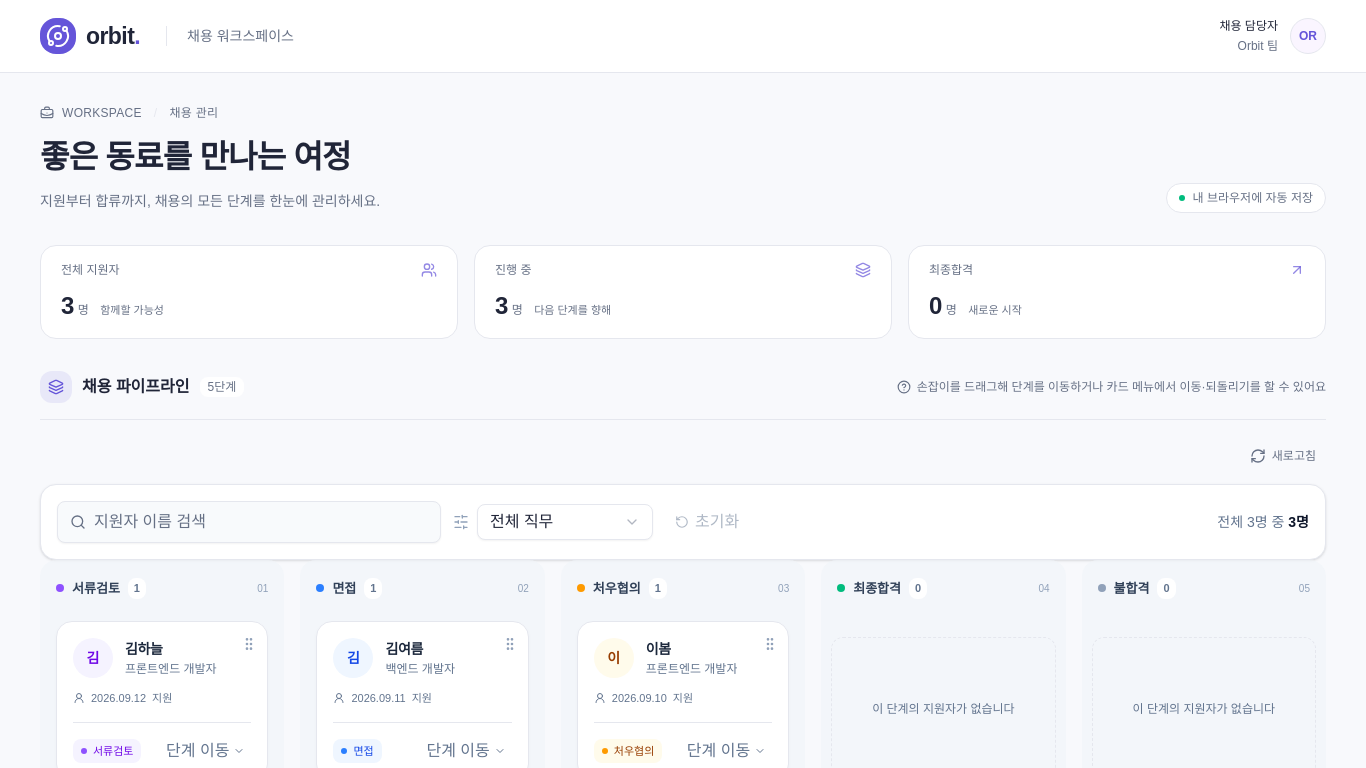
Test case: CandidatesApp acceptance › settles rapid search edits on matching cards, counts, and empty states without refetching
The width and height of the screenshot is (1366, 768).
In the search field: (261, 522) x1=94 y1=502 x2=428 y2=542, type "없는 이름"
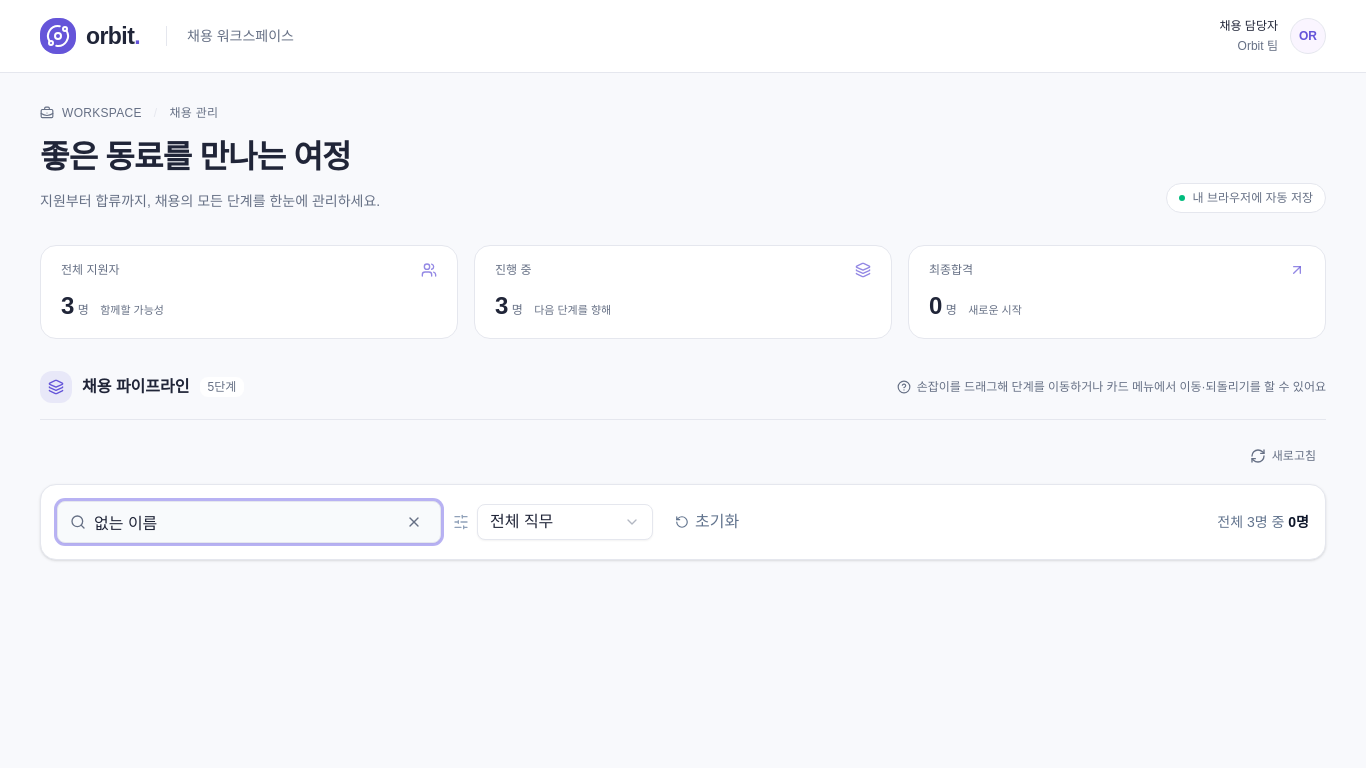
Clear the search field: (243, 522) x1=94 y1=502 x2=392 y2=542
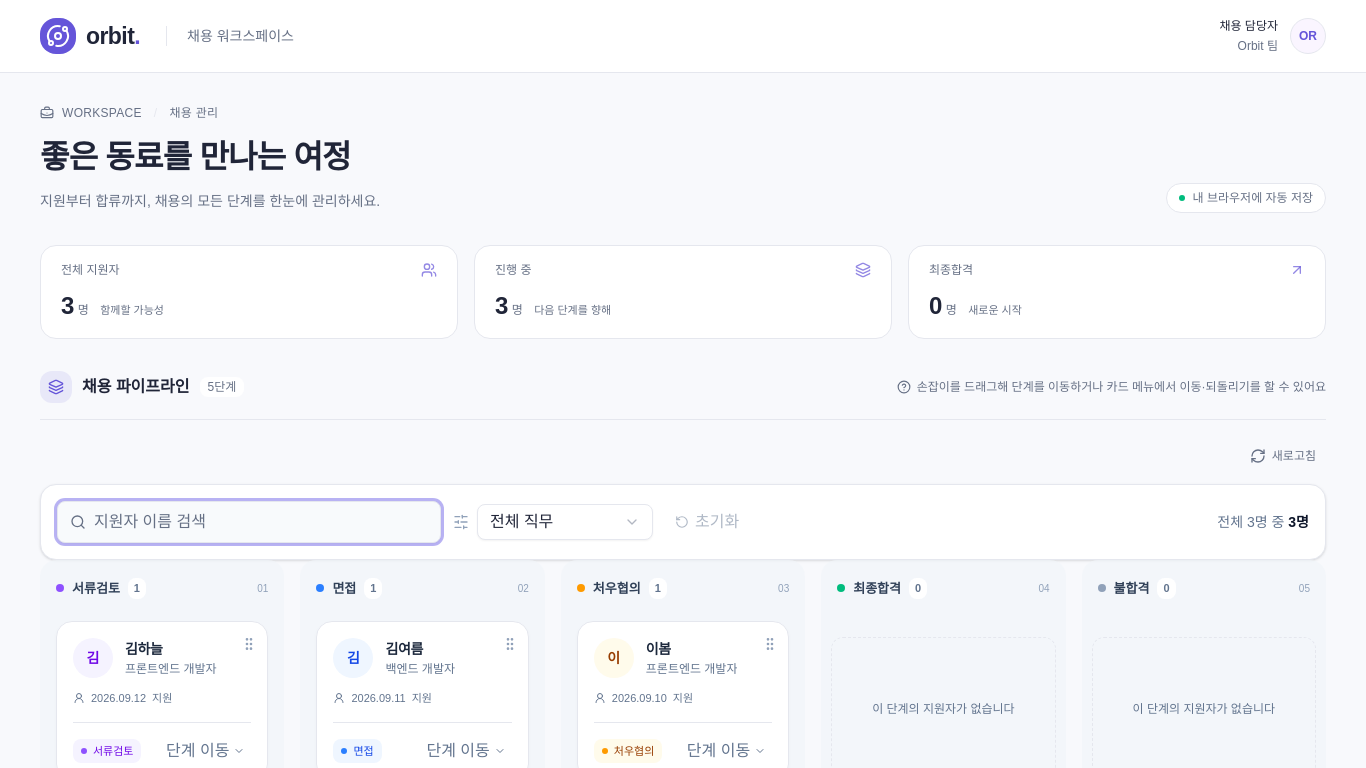
In the search field: (261, 522) x1=94 y1=502 x2=428 y2=542, type "김하늘"
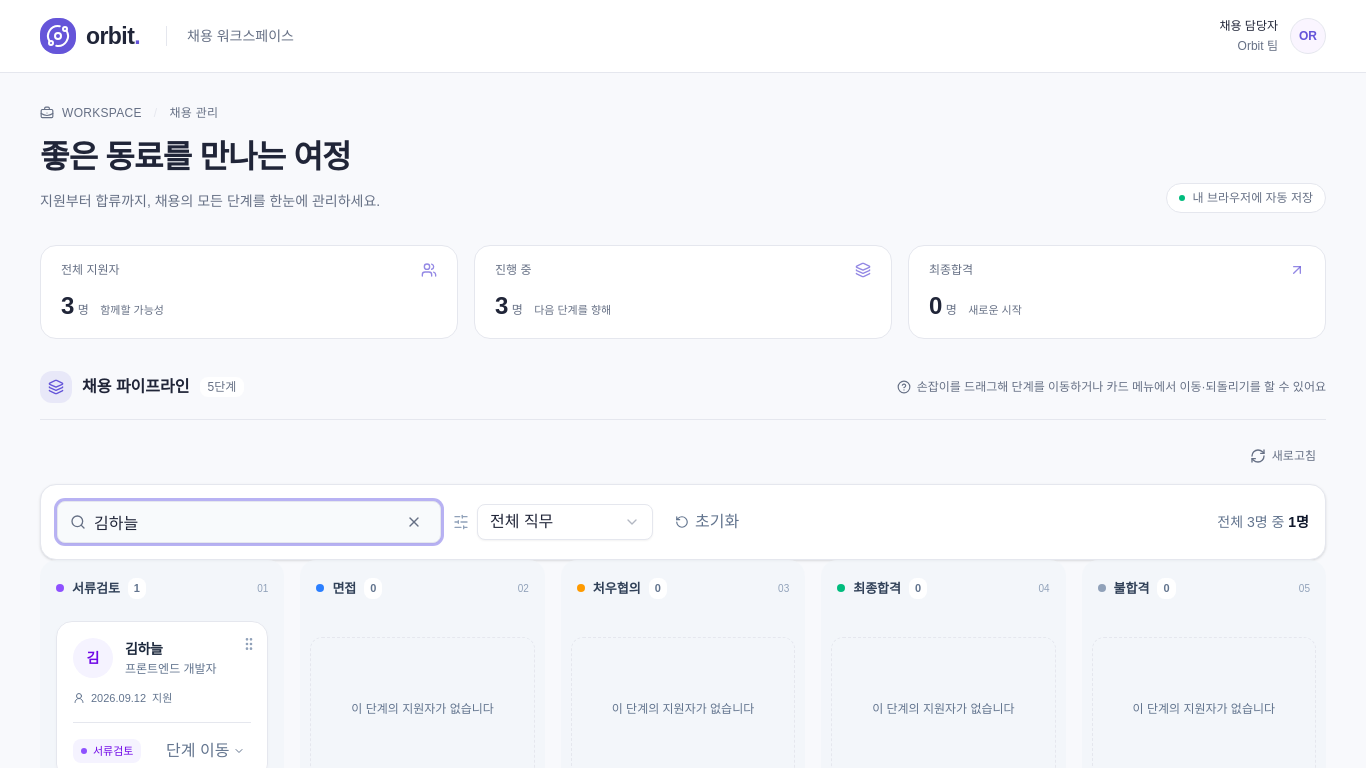
Expected: the number of buttons named "지원자 상세 보기" is 1, x1=57 y1=622 x2=267 y2=722
Result: the button with aria-label "김하늘 지원자 상세 보기" is shown at x1=57 y1=622 x2=267 y2=722
Result: the message named "지원자 검색 결과" reads "전체 3명 중 1명" at x1=1217 y1=512 x2=1309 y2=532
